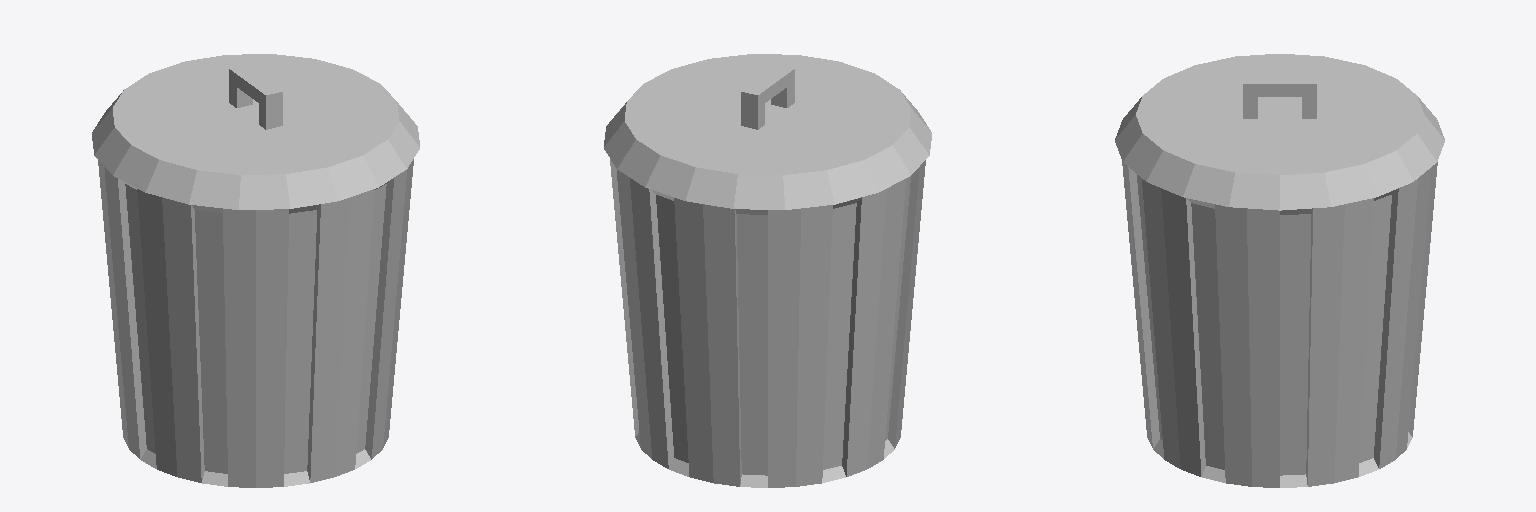
The model's file is 18_CityB_Trashcan_v1.obj.
The picture shows the model from 3 angles: view 1: azimuth 30°, elevation 25°; view 2: azimuth 150°, elevation 25°; view 3: azimuth 270°, elevation 25°; orthographic projection.
Visible parts, largest first — view 1: Trashcan; view 2: Trashcan; view 3: Trashcan.
Boxes of the visible parts, x1,y1,x2,y2 form: Trashcan: [92, 54, 419, 487]; Trashcan: [604, 54, 931, 487]; Trashcan: [1115, 54, 1444, 487].
Bounding box in the file's own units: 1.52 × 1.78 × 1.52.